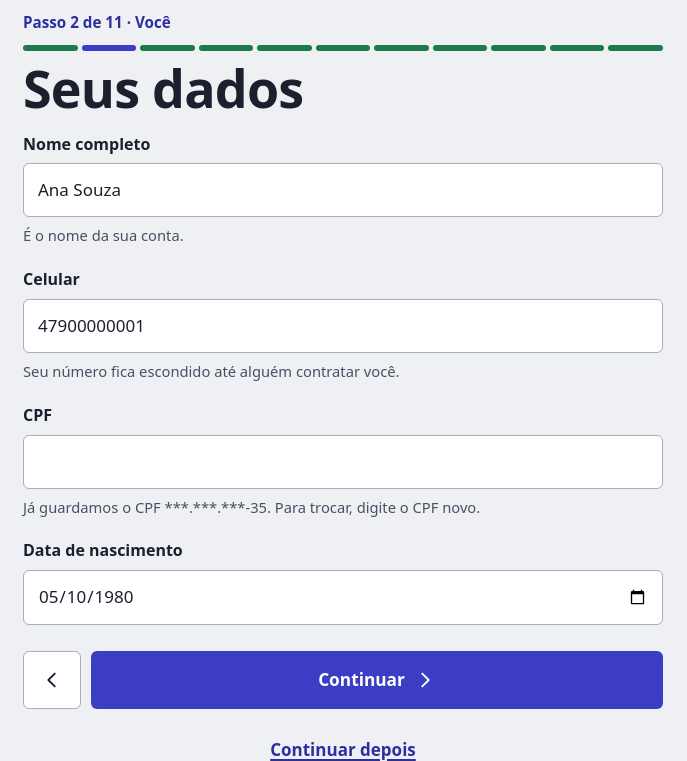
Test: etapa 2: seus dados › dados já guardados: o CPF aparece mascarado e Continuar segue sem PUT
The image size is (687, 761).
Check: the text "Já guardamos o CPF ***.***.***-35" is shown, box [23,497,480,517]
Check: the field labelled "CPF" is empty, box [23,435,663,489]
Click the button "Continuar": x=377, y=680 [91,651,663,709]
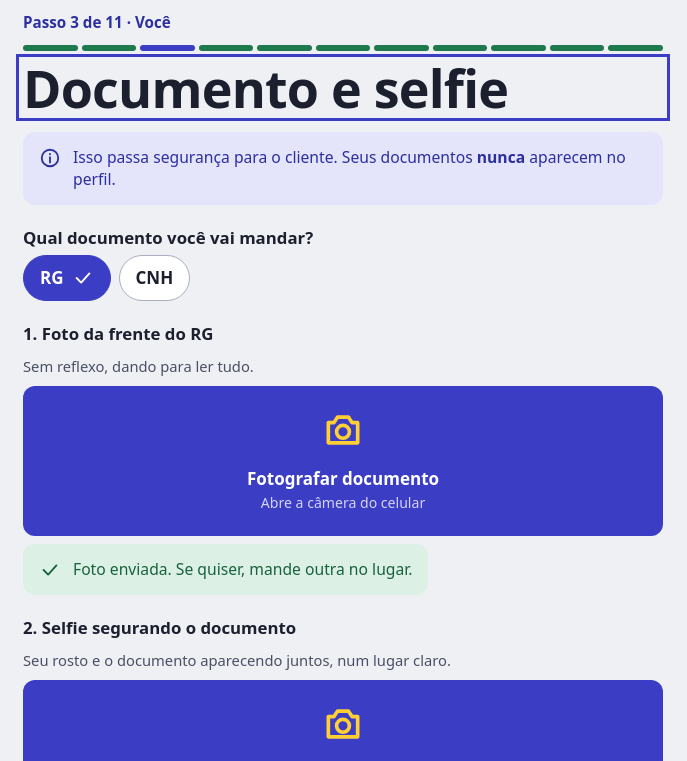
Check: the heading "Documento e selfie" is shown, box [23,52,508,123]
